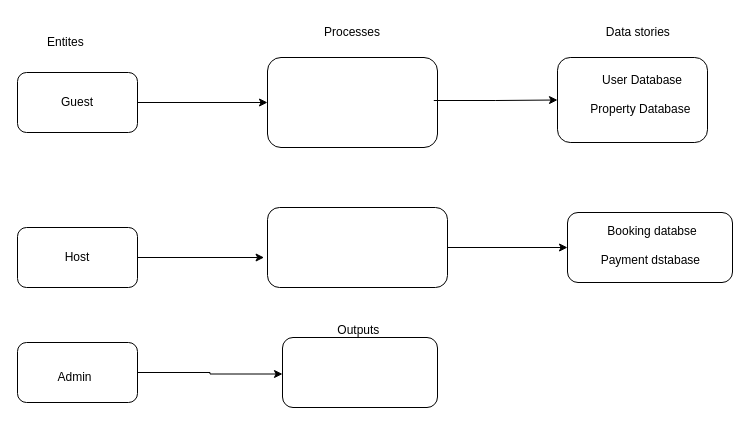
Some shapes in this 750 by 425 pixel diagram are drawn without their labels. The centre of each missing label's shape, as x and y in pixels:
Book property Payment processing: point 357,247
User confermation email Property reportse: point 360,372
User registration Search property: point 352,102
